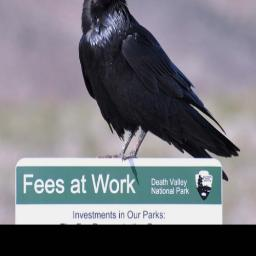Crow: (78, 0, 241, 184)
